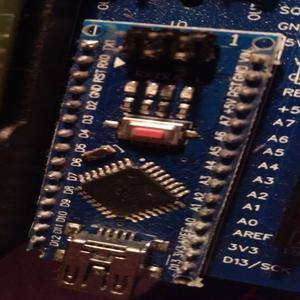duino: (27, 0, 300, 279)
